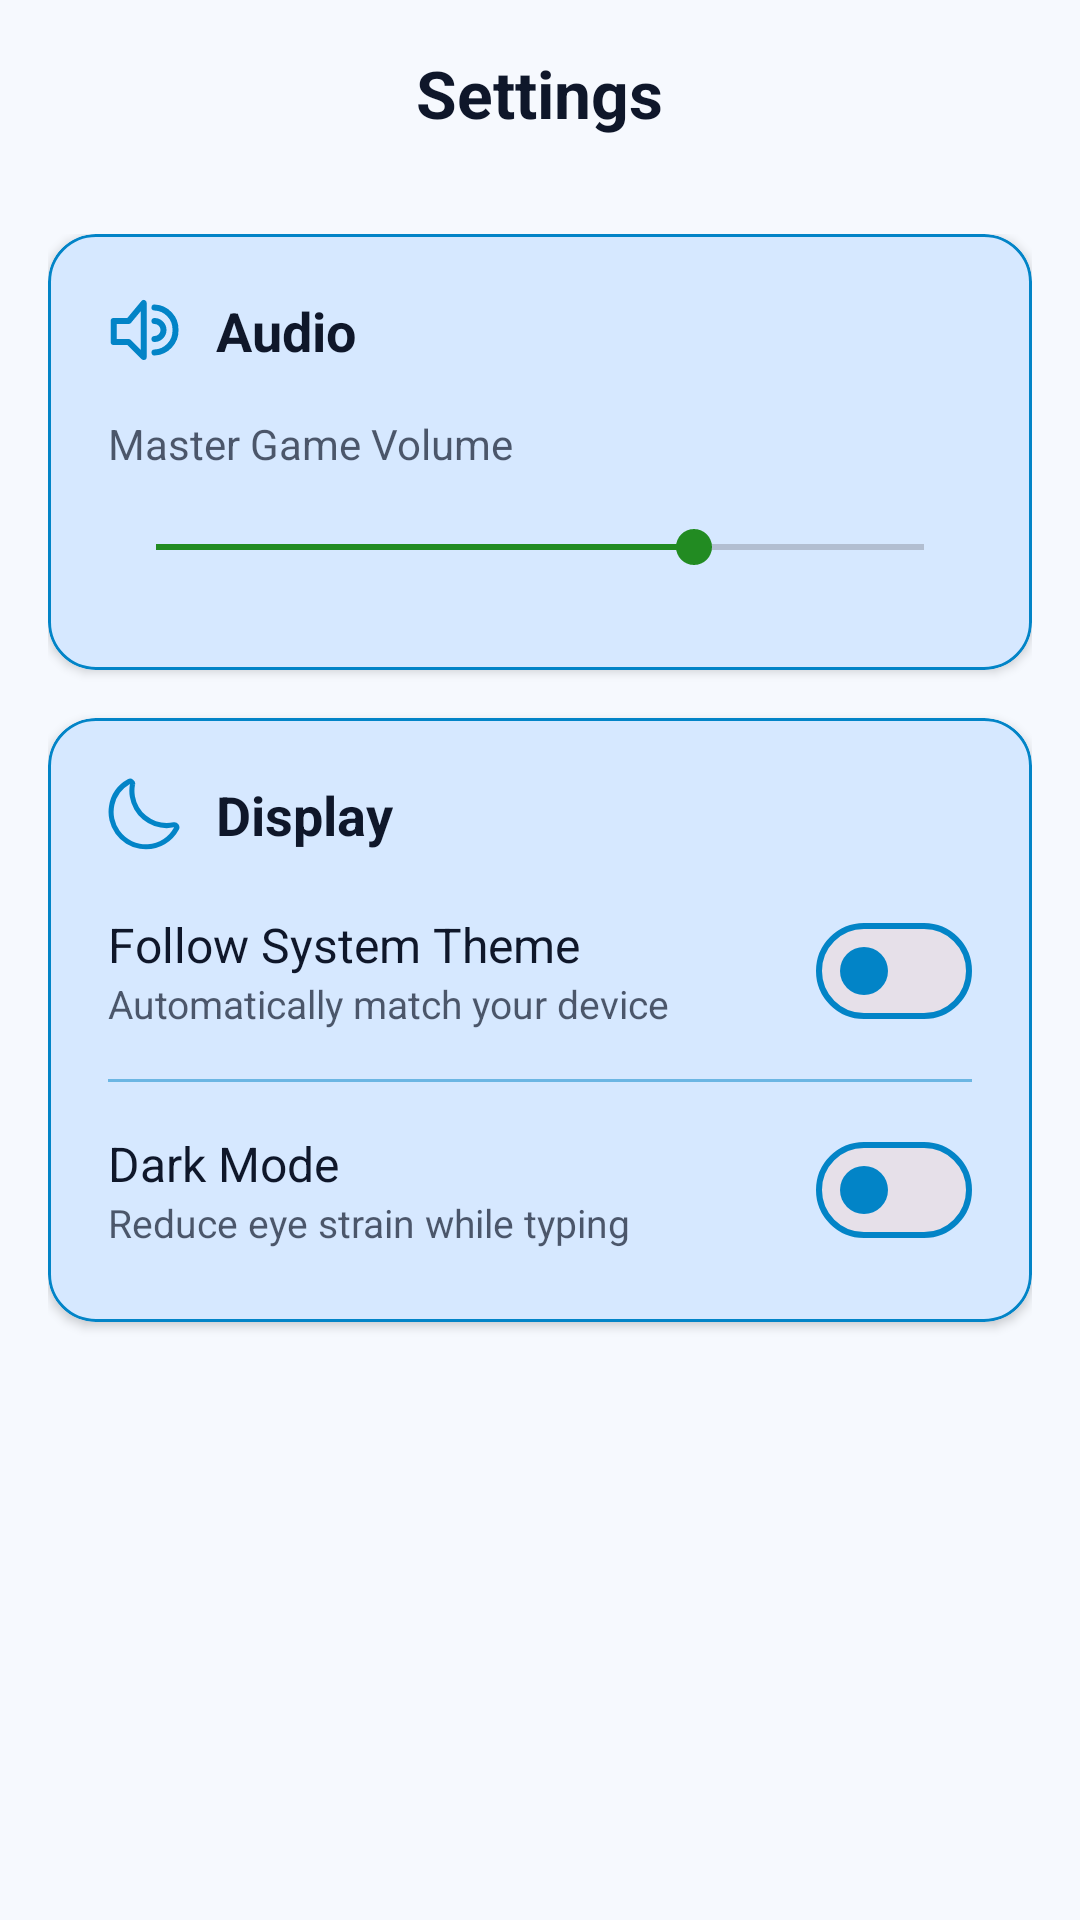

Screen size 1080px×1920px. Icon name, then its box in pixels as (x1, y1, x2, y2):
darkmode: (108, 778, 180, 850)
volumeup: (110, 300, 179, 360)
